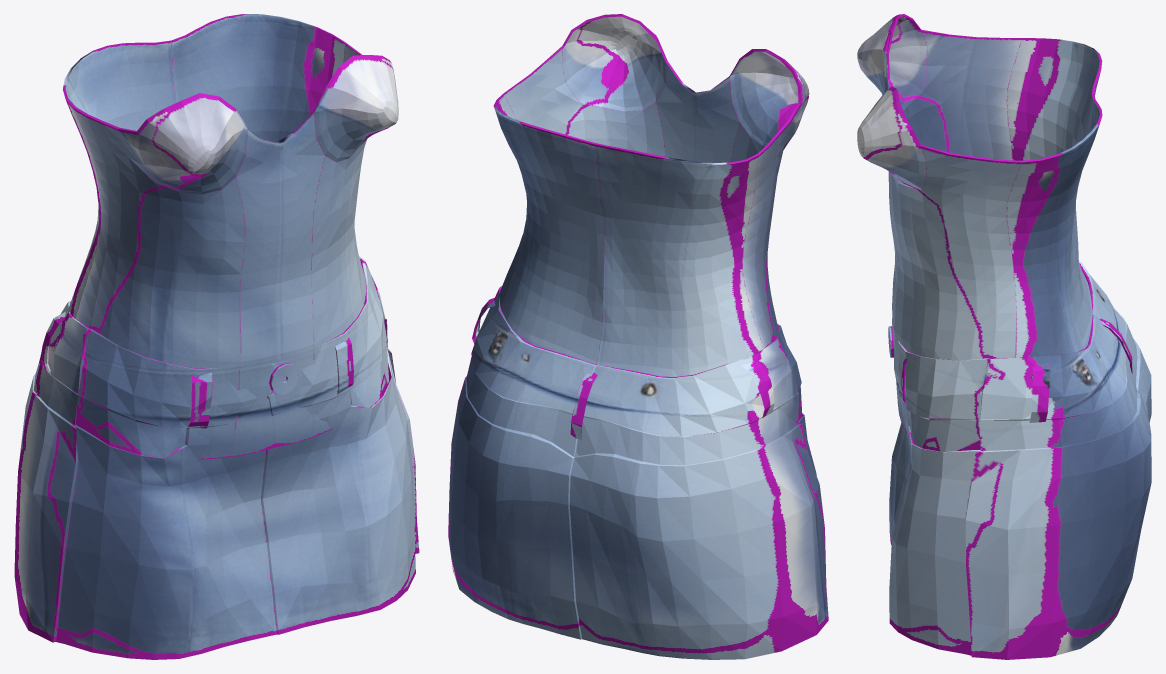
3 renders of one model, left to right at view 1: azimuth 30°, elevation 25°; view 2: azimuth 150°, elevation 25°; view 3: azimuth 270°, elevation 25°, orthographic. The views are drawn at different scales.
Bounding box in the file's own units: 0.669 × 0.9387 × 0.4768.
1 material, 1 textured.
